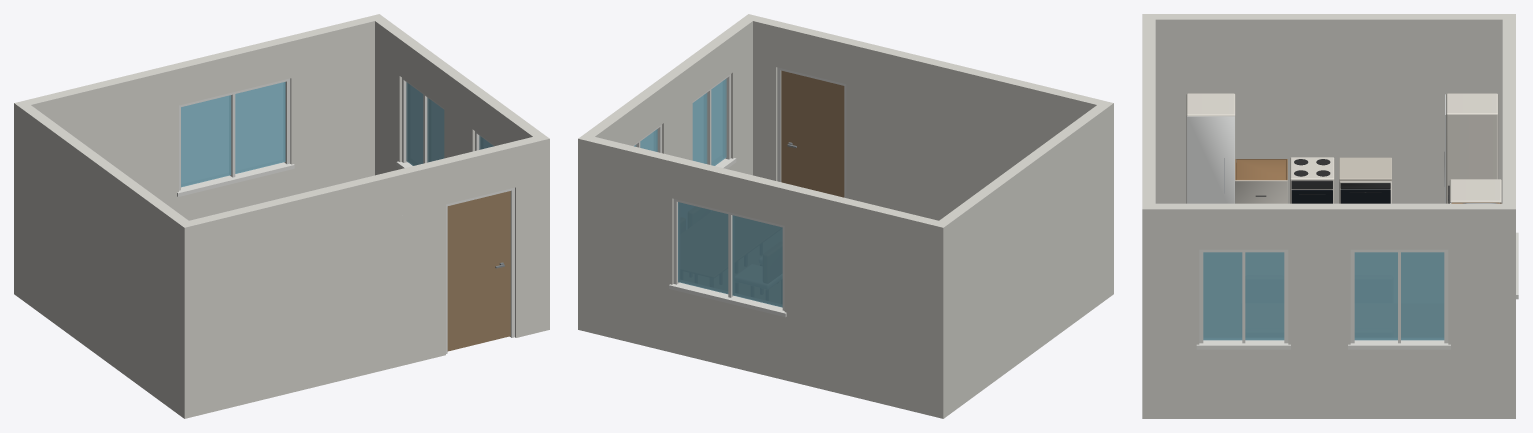
The model's file is oursv11b.glb.
3 renders of one model, left to right at view 1: azimuth 30°, elevation 25°; view 2: azimuth 150°, elevation 25°; view 3: azimuth 270°, elevation 25°, orthographic. The views are drawn at different scales.
Parts seen in each view (by area): view 1: wall|scenesmith_107__R00|0, wall|scenesmith_107__R00|1, wall|scenesmith_107__R00|2, wall|scenesmith_107__R00|3, wall|scenesmith_107__R00|0 Door 0 | wood leaf, wall|scenesmith_107__R00|1 Window 0 | glazing, wall|scenesmith_107__R00|3 Window 0 | glazing, wall|scenesmith_107__R00|1 Window 0 | jamb, wall|scenesmith_107__R00|0 Door 0 | jamb, wall|scenesmith_107__R00|3 Window 0 | jamb; view 2: wall|scenesmith_107__R00|1, wall|scenesmith_107__R00|0, wall|scenesmith_107__R00|2, wall|scenesmith_107__R00|3, wall|scenesmith_107__R00|1 Window 0 | glazing, wall|scenesmith_107__R00|0 Door 0 | wood leaf, wall|scenesmith_107__R00|3 Window 0 | glazing, wall|scenesmith_107__R00|1 Window 0 | jamb, wall|scenesmith_107__R00|3 Window 0 | jamb, wall|scenesmith_107__R00|0 Door 0 | jamb; view 3: wall|scenesmith_107__R00|3, wall|scenesmith_107__R00|2, wall|scenesmith_107__R00|3 Window 0 | glazing, Appliance enclosure, wall|scenesmith_107__R00|0, wall|scenesmith_107__R00|1, wall|scenesmith_107__R00|3 Window 0 | jamb, Freezer drawer, Dark appliance door, Stone worktop, Backrest.001, Appliance door.
Boxes of the visible parts, x1,y1,x2,y2 form: wall|scenesmith_107__R00|0: (179,137,549,418); wall|scenesmith_107__R00|1: (14,16,374,298); wall|scenesmith_107__R00|2: (14,100,188,418); wall|scenesmith_107__R00|3: (369,14,549,175); wall|scenesmith_107__R00|0 Door 0 | wood leaf: (447,191,510,351); wall|scenesmith_107__R00|1 Window 0 | glazing: (181,82,285,187); wall|scenesmith_107__R00|3 Window 0 | glazing: (406,82,493,165); wall|scenesmith_107__R00|1 Window 0 | jamb: (177,78,294,196); wall|scenesmith_107__R00|0 Door 0 | jamb: (446,187,514,353); wall|scenesmith_107__R00|3 Window 0 | jamb: (396,78,494,168); wall|scenesmith_107__R00|1: (578,137,949,418); wall|scenesmith_107__R00|0: (753,16,1113,220); wall|scenesmith_107__R00|2: (933,103,1113,418); wall|scenesmith_107__R00|3: (578,14,758,332); wall|scenesmith_107__R00|1 Window 0 | glazing: (678,202,782,307); wall|scenesmith_107__R00|0 Door 0 | wood leaf: (781,70,844,197); wall|scenesmith_107__R00|3 Window 0 | glazing: (634,78,726,165); wall|scenesmith_107__R00|1 Window 0 | jamb: (669,199,786,317); wall|scenesmith_107__R00|3 Window 0 | jamb: (633,74,736,168); wall|scenesmith_107__R00|0 Door 0 | jamb: (777,67,846,197); wall|scenesmith_107__R00|3: (1142,203,1515,418); wall|scenesmith_107__R00|2: (1155,14,1515,203); wall|scenesmith_107__R00|3 Window 0 | glazing: (1203,252,1444,340); Appliance enclosure: (1186,93,1501,203); wall|scenesmith_107__R00|0: (1142,14,1155,418); wall|scenesmith_107__R00|1: (1502,14,1515,418); wall|scenesmith_107__R00|3 Window 0 | jamb: (1196,249,1450,349); Freezer drawer: (1186,94,1445,203); Dark appliance door: (1291,189,1448,203); Stone worktop: (1339,157,1391,181); Backrest.001: (1235,159,1499,203); Appliance door: (1255,159,1449,203).
Bounding box in the file's own units: 5.23 × 2.61 × 4.23.
